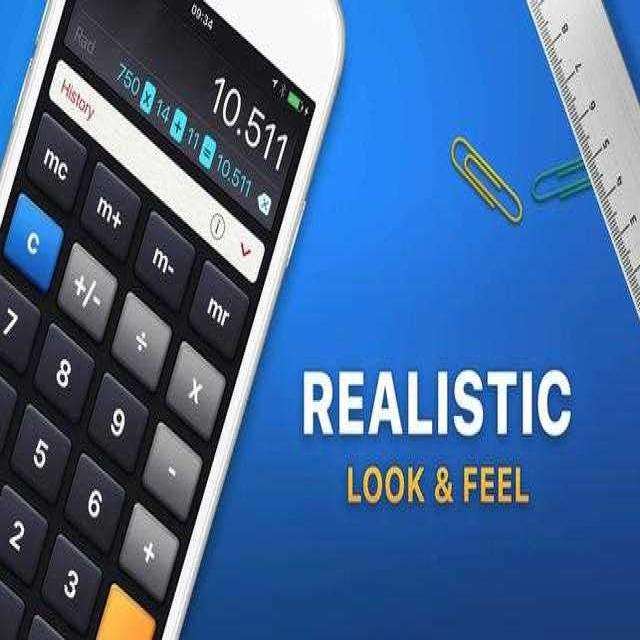Calculator: (0, 0, 345, 638)
